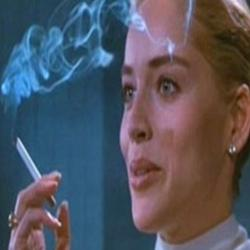smoking: (6, 134, 72, 250)
